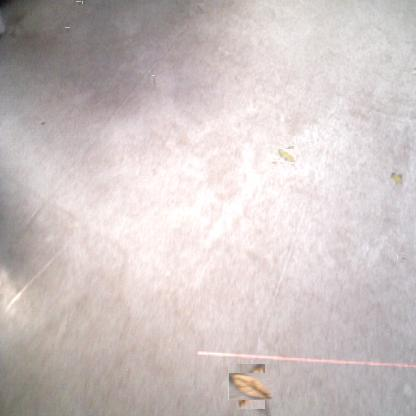dirty: (233, 368, 269, 405), (279, 148, 295, 164), (390, 172, 404, 186), (411, 69, 416, 74)
mark: (195, 3, 205, 16), (398, 253, 407, 262), (39, 120, 47, 128), (272, 159, 279, 167), (152, 75, 156, 86), (64, 27, 70, 34), (76, 1, 81, 7), (82, 1, 86, 4)
